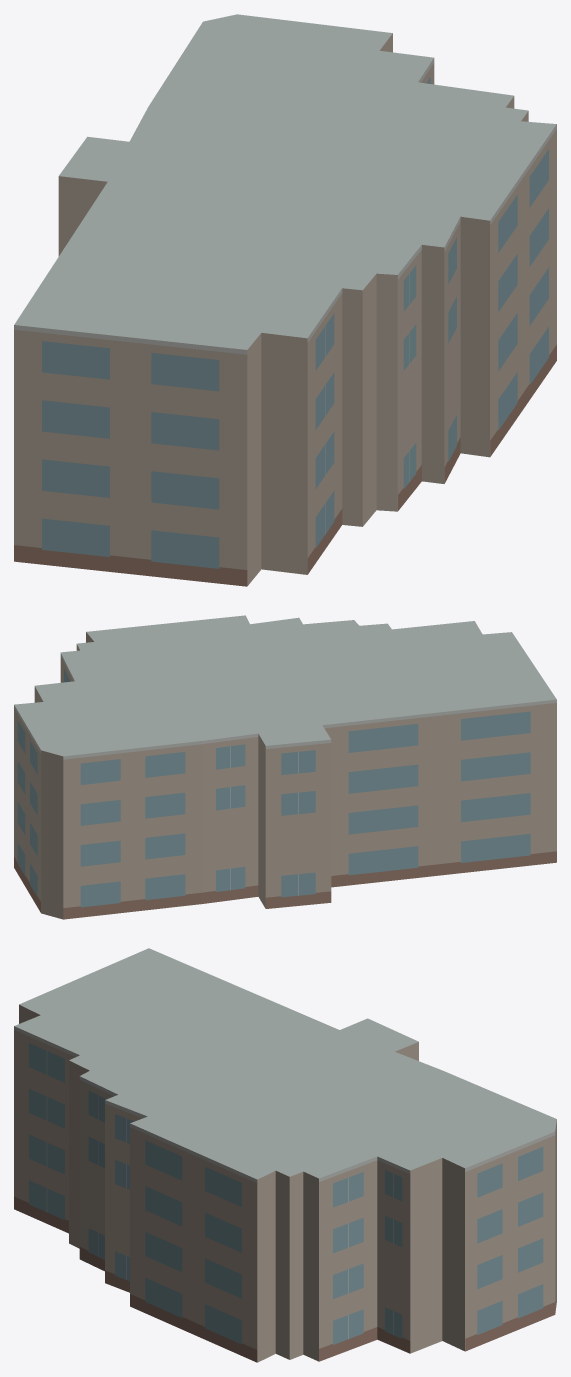
The model's file is survey-upis-32498088.glb.
3 views of the same model, one above another, from view 1: azimuth 30°, elevation 25°; view 2: azimuth 150°, elevation 25°; view 3: azimuth 270°, elevation 25° (orthographic). The views are drawn at different scales.
Parts seen in each view (by area): view 1: survey-upis-32498088.tmp; view 2: survey-upis-32498088.tmp; view 3: survey-upis-32498088.tmp.
Part boxes in pixels (bbox=[...]): survey-upis-32498088.tmp: bbox=[14, 14, 556, 586]; survey-upis-32498088.tmp: bbox=[14, 615, 556, 919]; survey-upis-32498088.tmp: bbox=[14, 948, 556, 1362].
Size of the model in its own units: 32.94 by 12.15 by 32.64.
